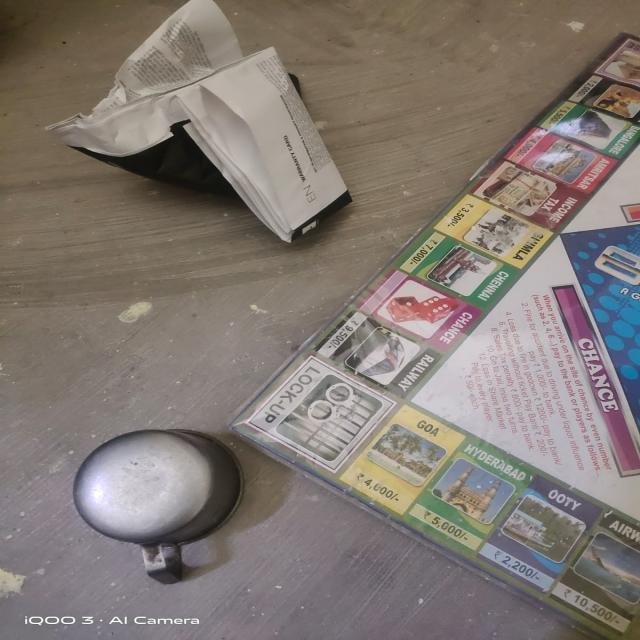dry: (323, 22, 640, 595), (12, 19, 405, 252), (45, 426, 241, 590)
